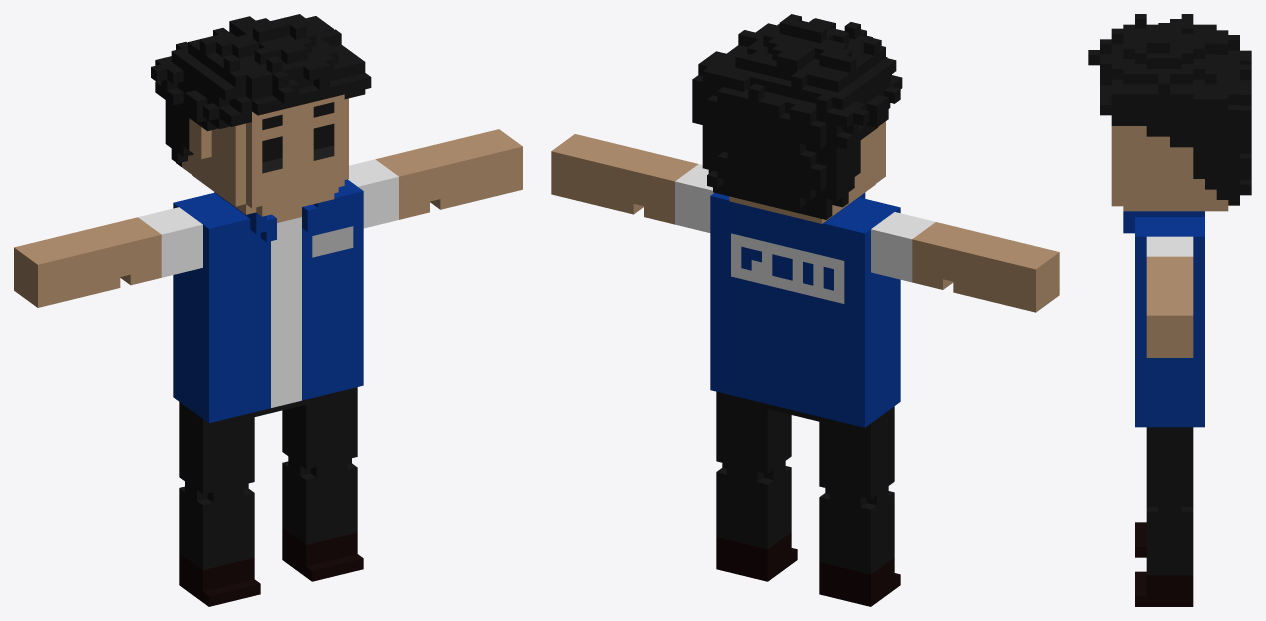
Rendered from character3.obj.
The picture shows the model from 3 angles, left to right: view 1: azimuth 30°, elevation 25°; view 2: azimuth 150°, elevation 25°; view 3: azimuth 270°, elevation 25°; orthographic projection. The views are drawn at different scales.
Bounding box in the file's own units: 4.7 × 5.1 × 1.4.
Materials: 1 (1 with a texture image).
